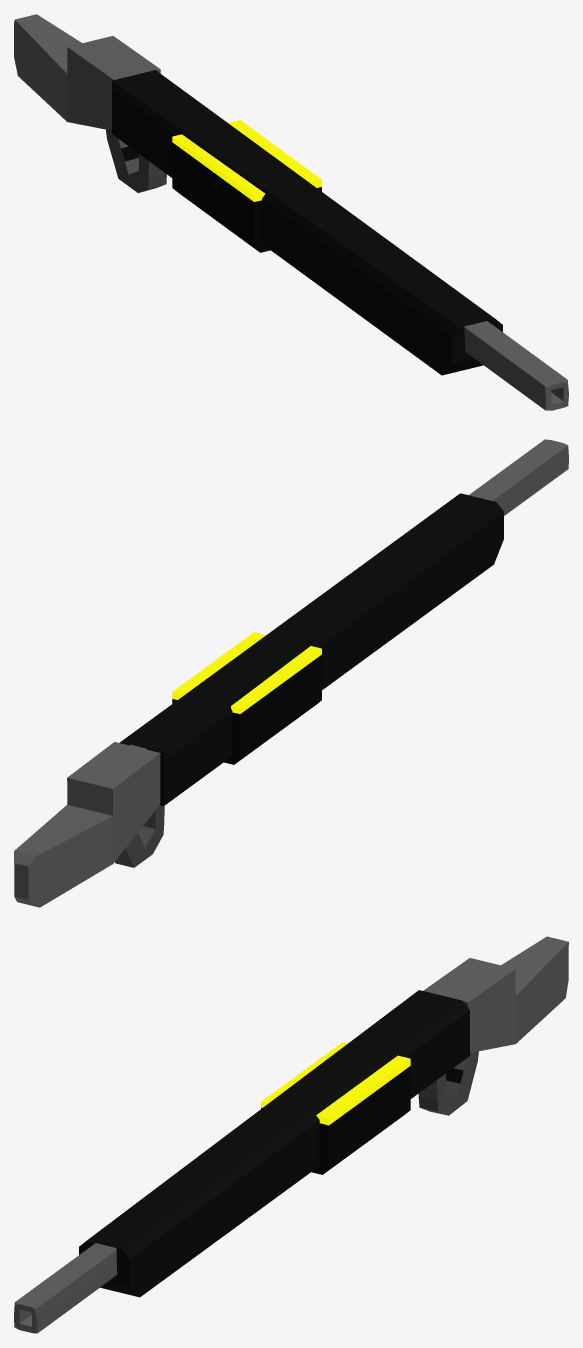
File: cool_rifle.fbx
The picture shows the model from 3 angles, top to bottom: view 1: azimuth 30°, elevation 25°; view 2: azimuth 150°, elevation 25°; view 3: azimuth 330°, elevation 25°; orthographic projection.
Parts seen in each view (by area): view 1: barrel, butt, barrel_bands, muzzle, trigger; view 2: barrel, butt, barrel_bands, muzzle, trigger; view 3: barrel, butt, barrel_bands, muzzle, trigger.
Boxes of the visible parts, x1,y1,x2,y2 form: barrel: (112, 70, 502, 375); butt: (14, 14, 160, 130); barrel_bands: (172, 120, 321, 252); muzzle: (464, 321, 568, 410); trigger: (106, 129, 166, 192); barrel: (119, 493, 503, 805); butt: (14, 742, 160, 907); barrel_bands: (172, 632, 321, 764); muzzle: (130, 439, 568, 749); trigger: (115, 805, 164, 867); barrel: (79, 990, 469, 1297); butt: (423, 936, 568, 1052); barrel_bands: (261, 1042, 410, 1174); muzzle: (14, 1243, 117, 1333); trigger: (418, 1051, 478, 1115).
Bounding box in the file's own units: 30.95 × 48.55 × 423.
